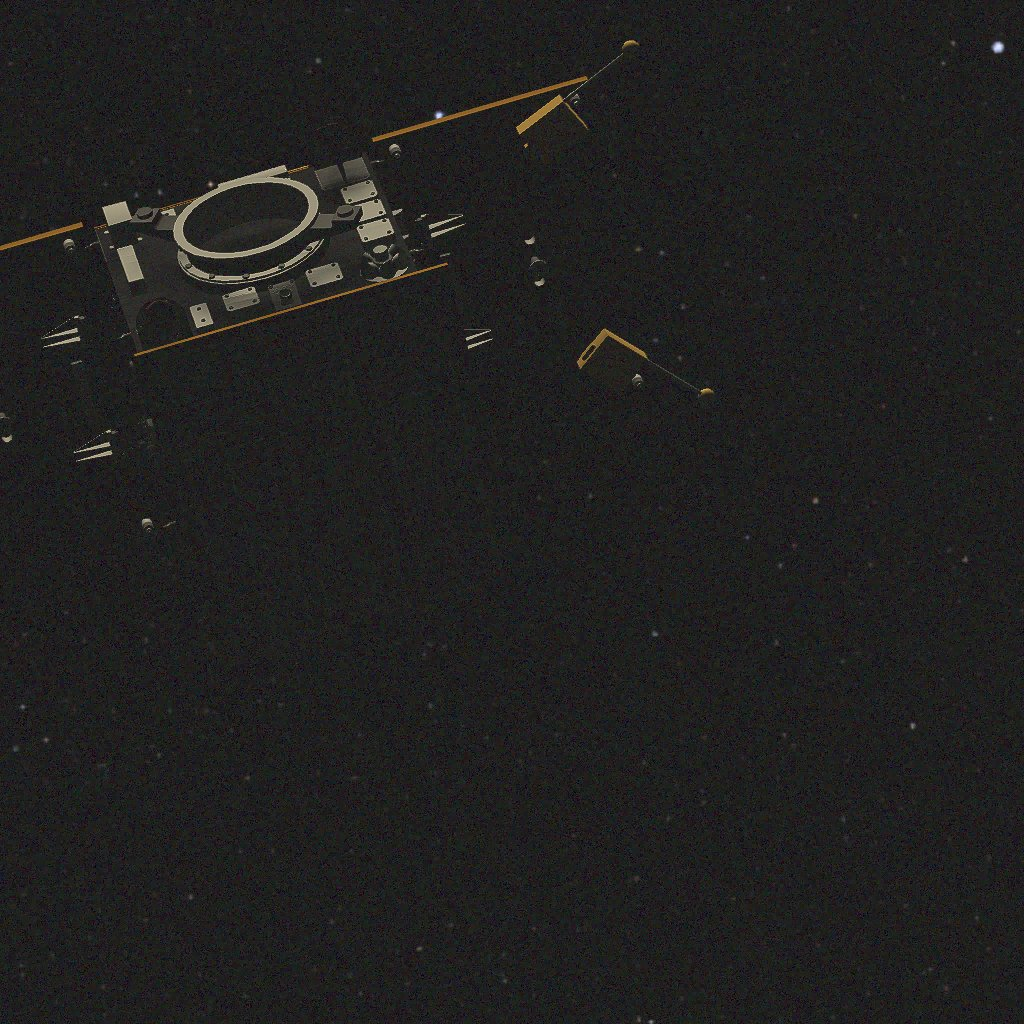proba_2: (0, 41, 715, 690)
